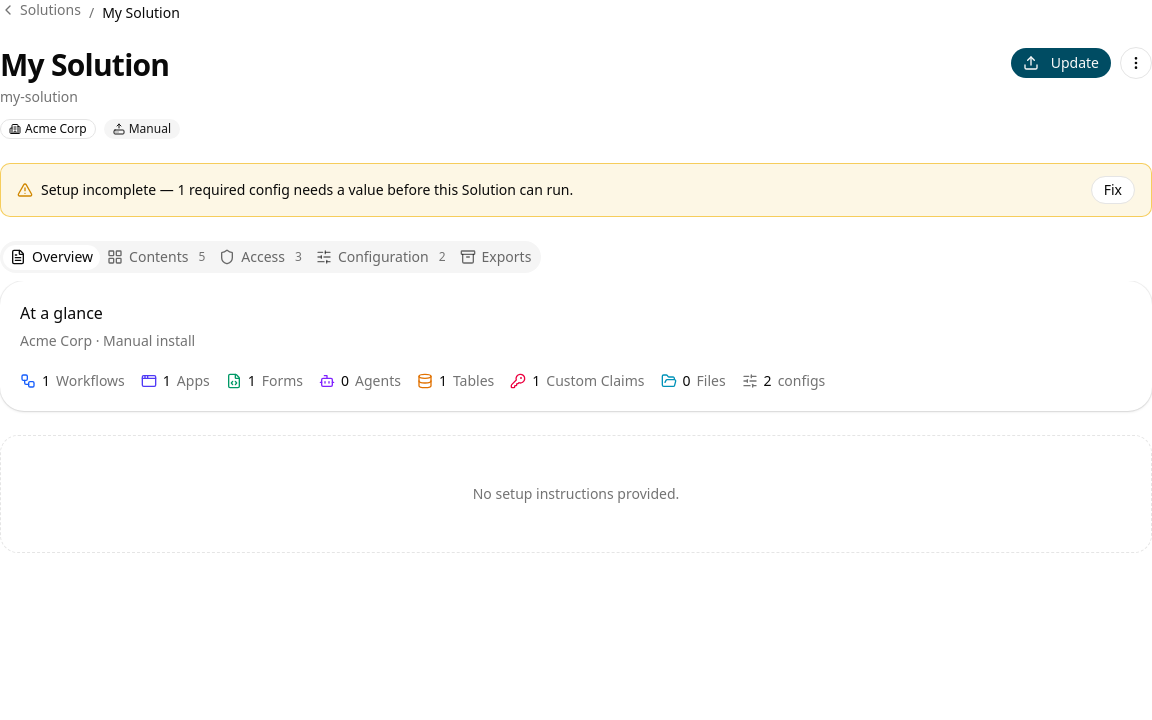
it: SolutionDetail › opens sharing for a solution-managed form without exposing edit controls
The image size is (1152, 720).
What coordinates should you click on to do the following:
click the tab with test id "tab-contents"
I would click on:
 (156, 257)
Its box is 100,244 -> 212,270.
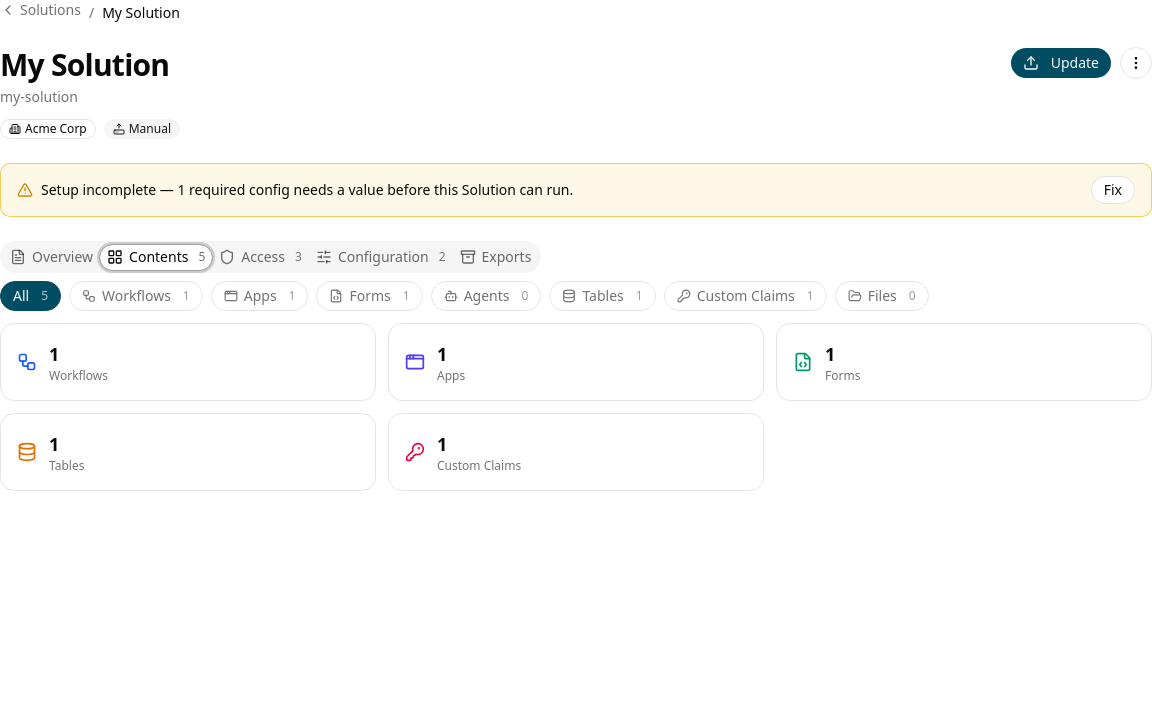
What coordinates should you click on to do the following:
click the button with test id "chip-forms"
I would click on:
 (370, 296)
Its box is 316,281 -> 423,311.
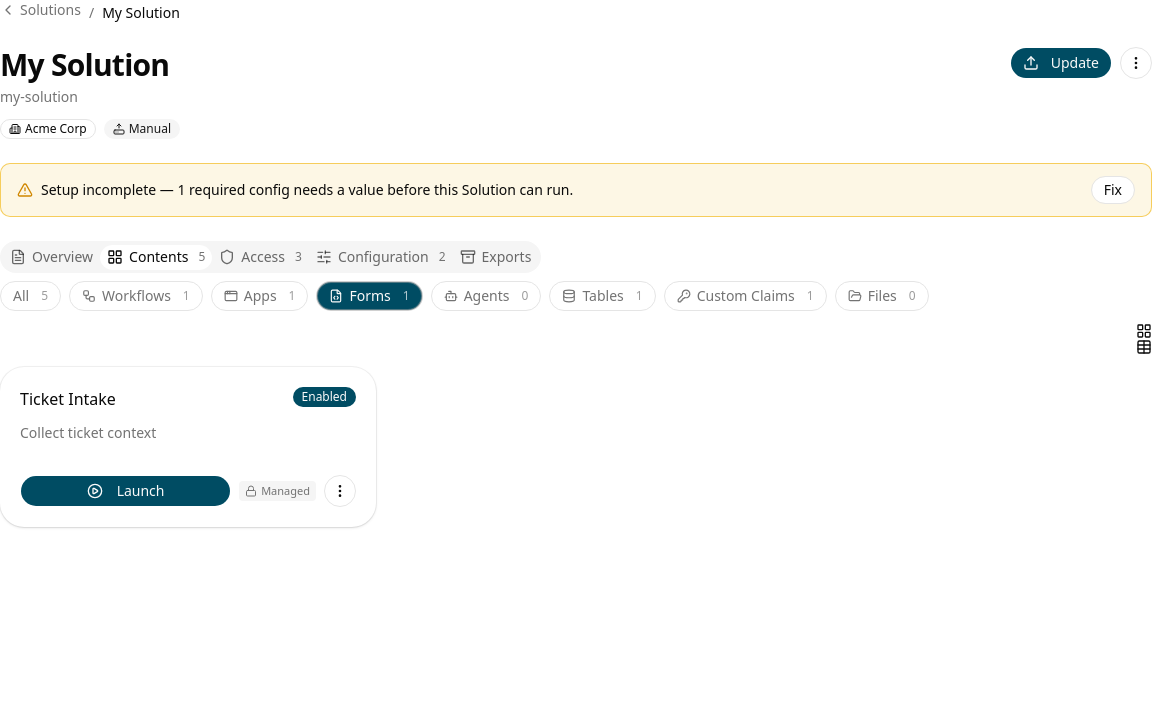
What coordinates should you click on to do the following:
click the button named "Ticket Intake actions"
I would click on:
 (340, 491)
Its box is 324,475 -> 356,507.
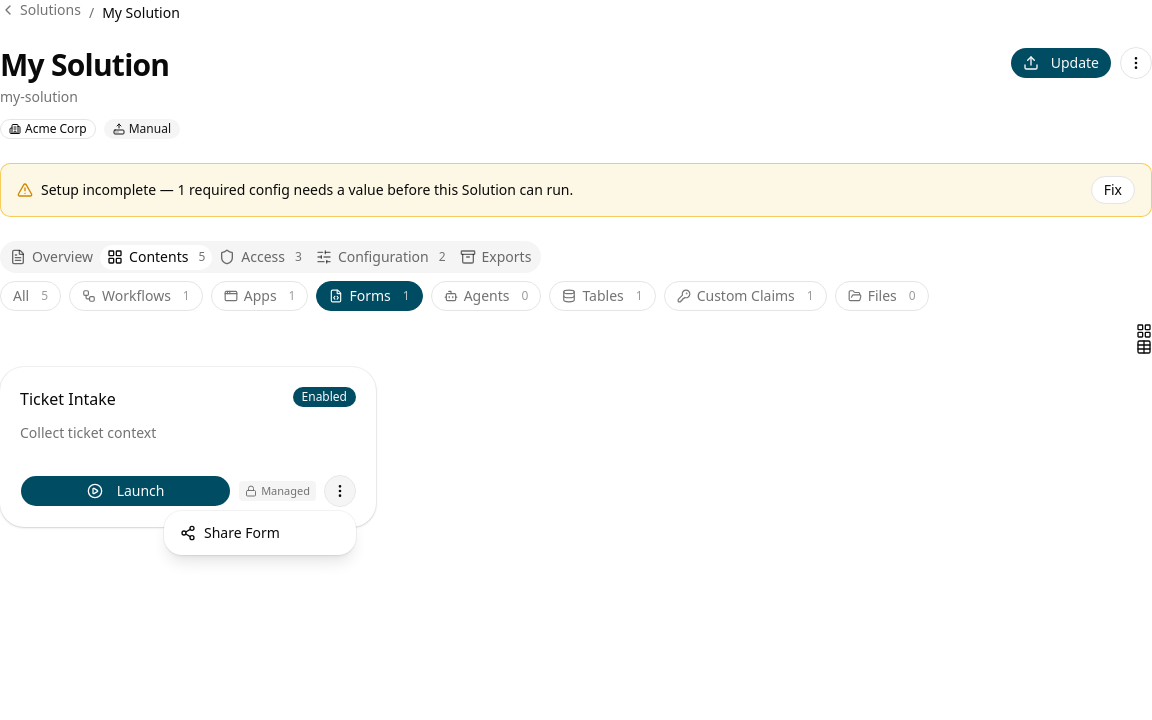
Result: the menu item "Share Form" is shown
What coordinates should you click on to do the following:
click the menu item "Share Form"
I would click on:
 (230, 532)
Its box is 180,523 -> 280,542.
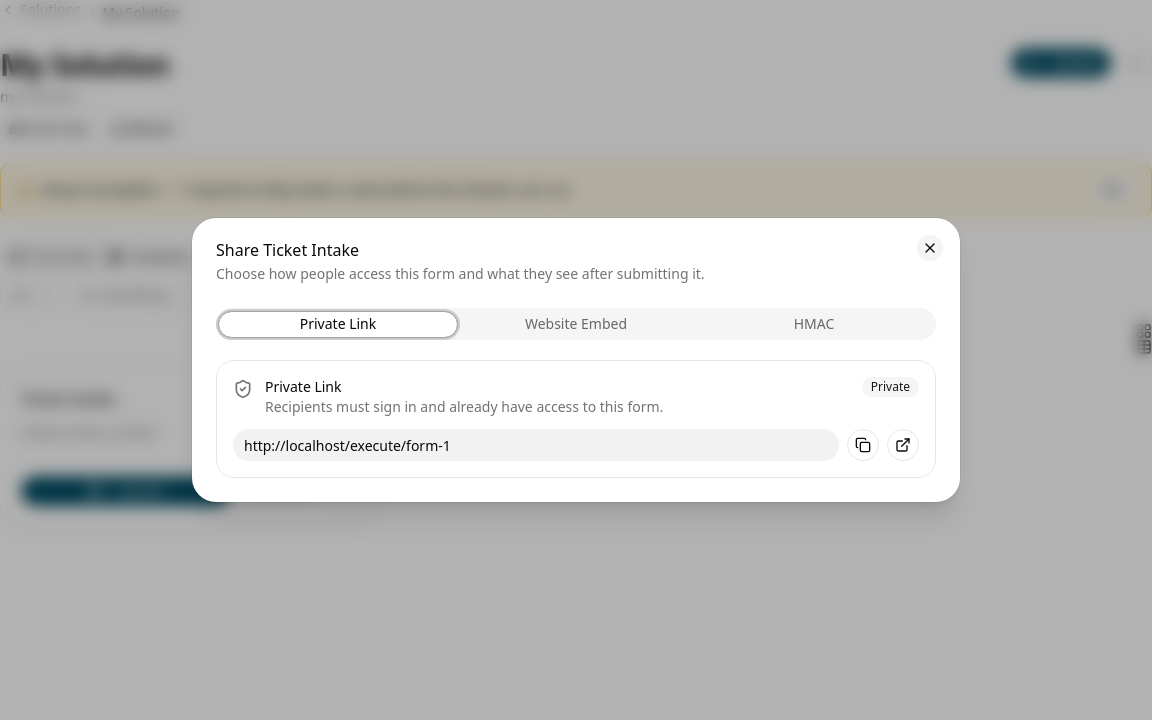
Result: the dialog shows "Share Ticket Intake" at 192,218 -> 960,502
